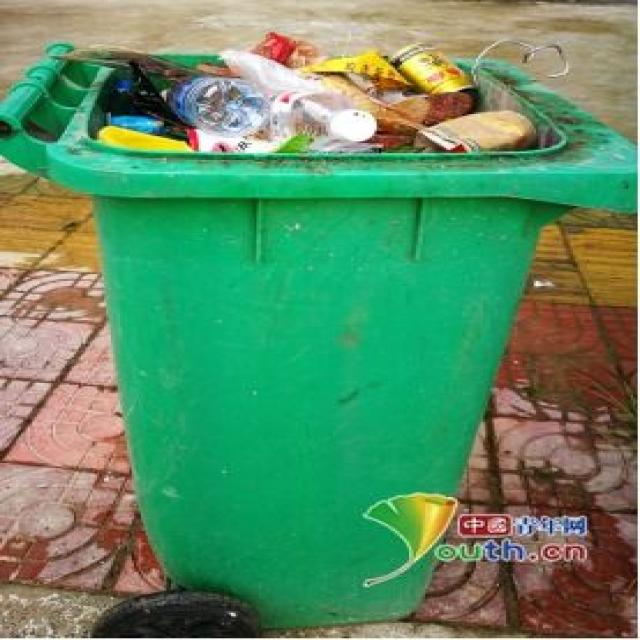overflow: (0, 29, 638, 626)
